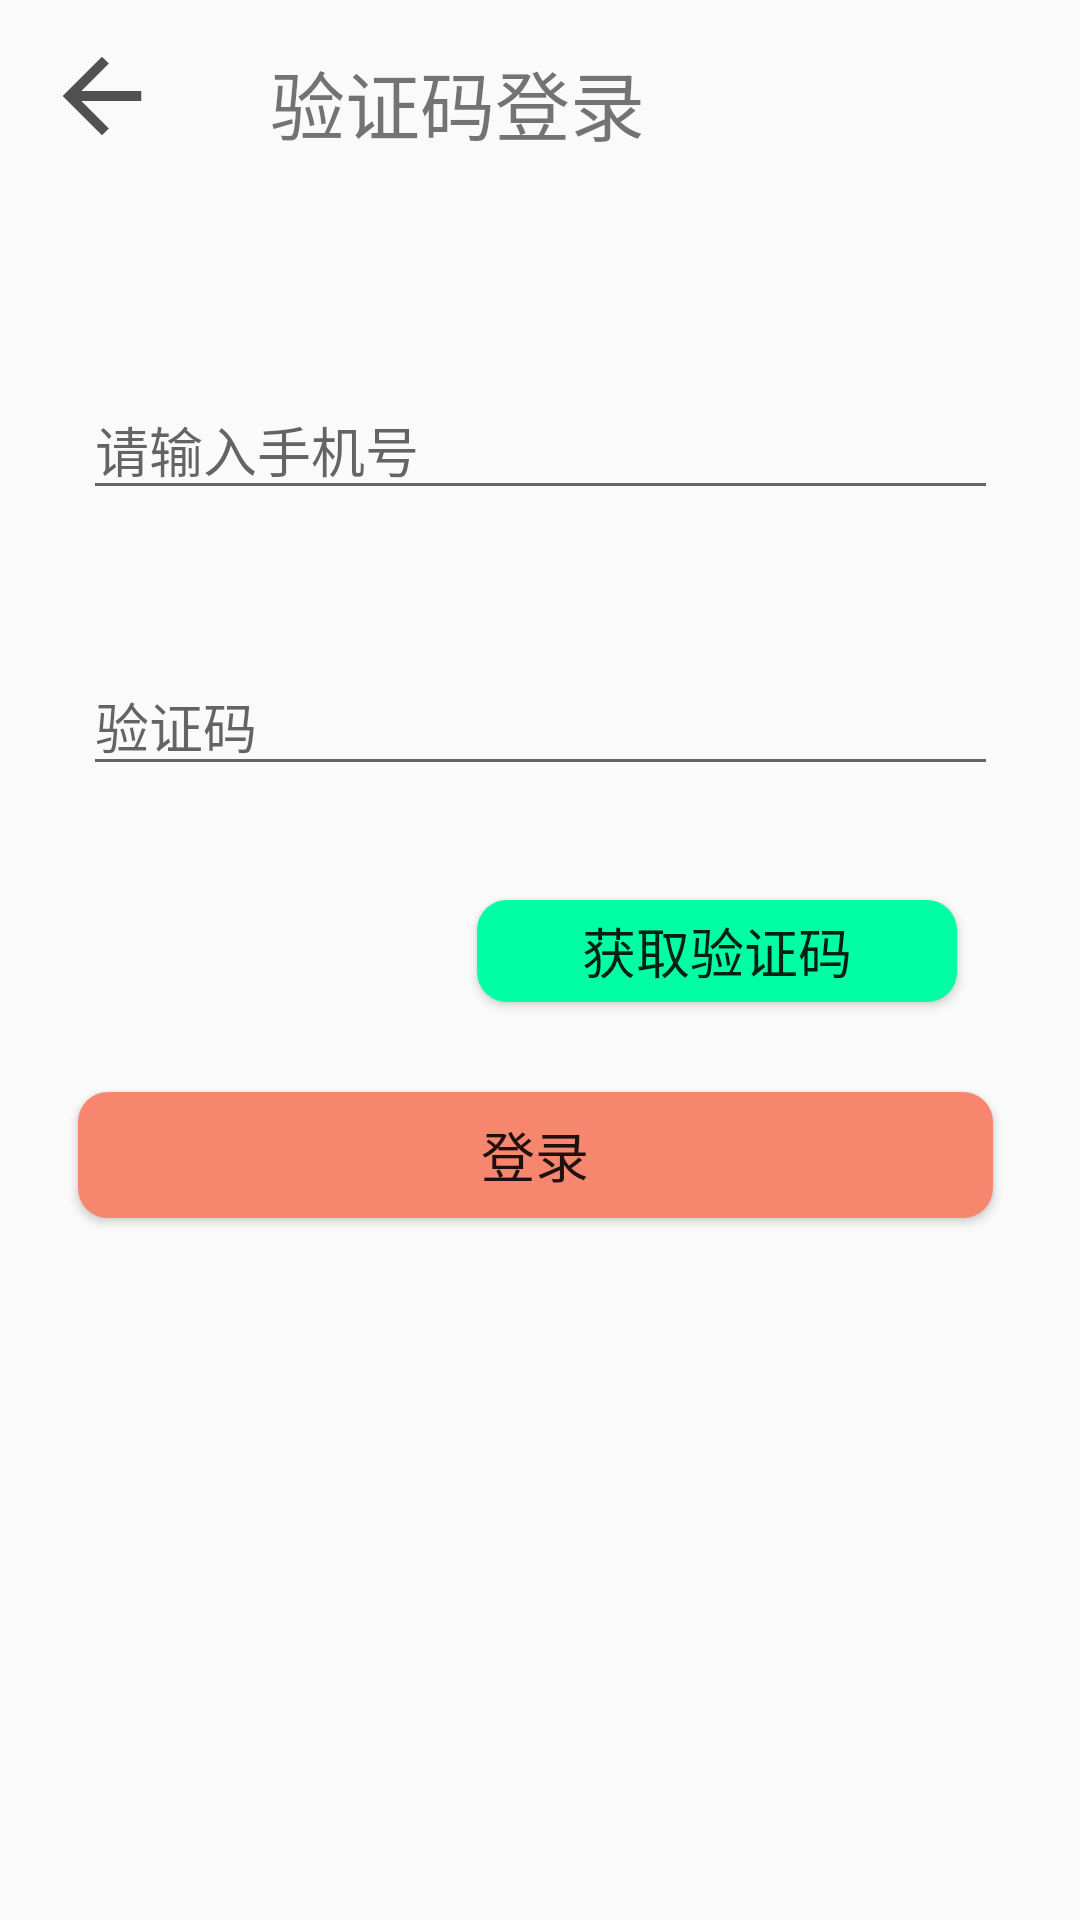

Locate icon controls on the screen. Image size 1080 x 1920, boxes as (x1, y1, x2, y2).
back: (63, 57, 142, 135)
